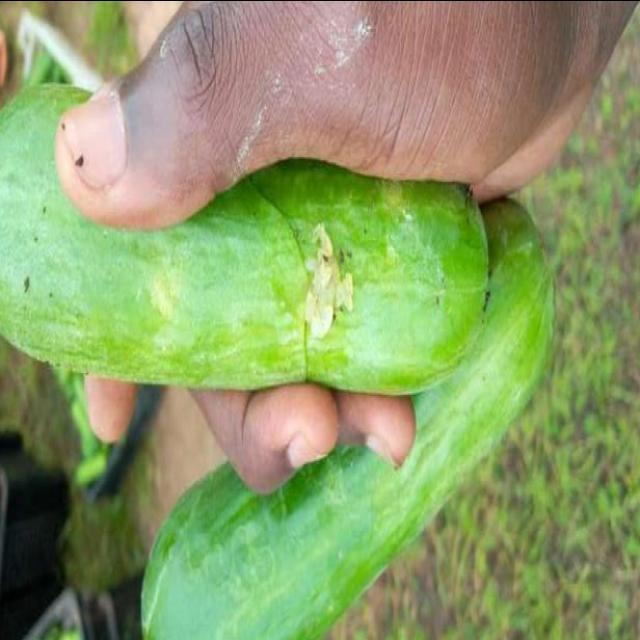Fruit fly: (296, 204, 371, 370), (136, 238, 193, 350)
